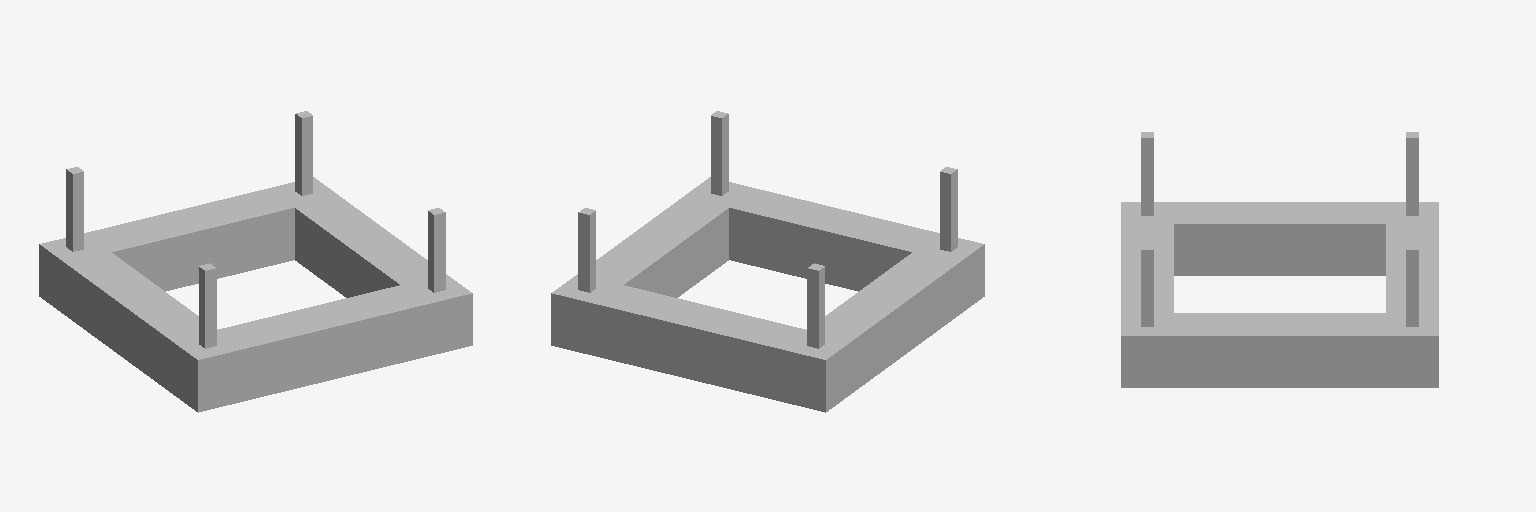
File: sgc_briefingroom_light_physics.obj
3 renders of one model, left to right at view 1: azimuth 30°, elevation 25°; view 2: azimuth 150°, elevation 25°; view 3: azimuth 270°, elevation 25°, orthographic.
Parts seen in each view (by area): view 1: Briefing_Room_Light_Physics; view 2: Briefing_Room_Light_Physics; view 3: Briefing_Room_Light_Physics.
Part boxes in pixels (x1,y1,x2,y2): Briefing_Room_Light_Physics: (39, 111, 472, 412); Briefing_Room_Light_Physics: (551, 111, 984, 412); Briefing_Room_Light_Physics: (1121, 132, 1438, 387).
Size of the model in its own units: 29.26 by 13.26 by 29.26.